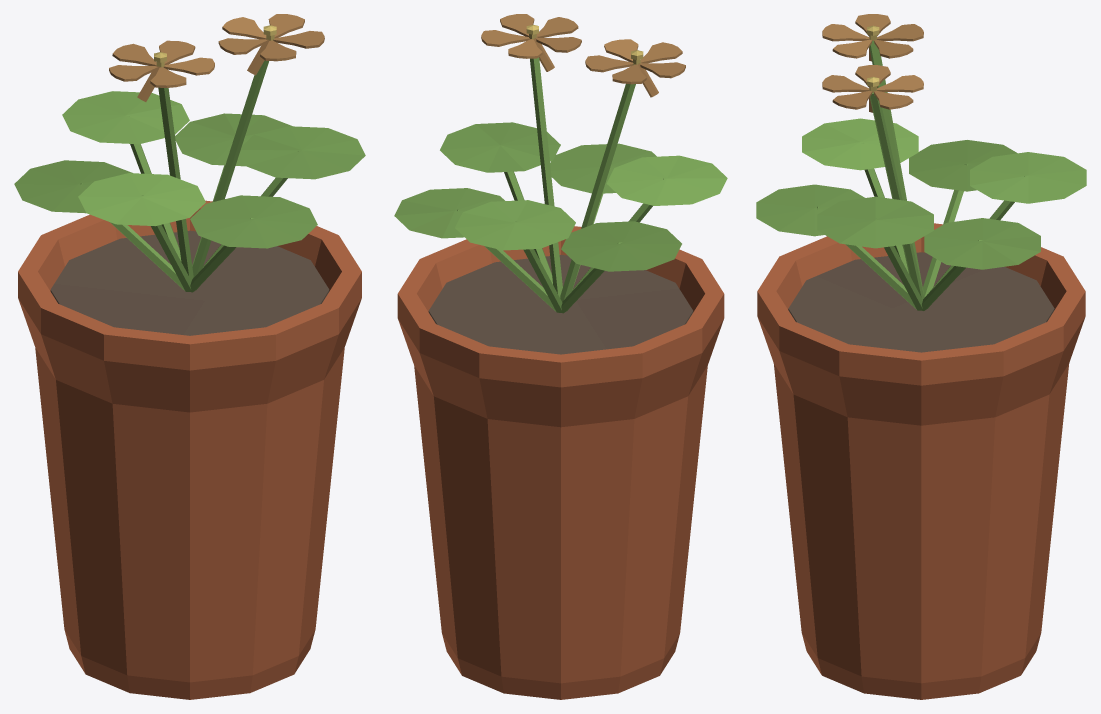
Rendered from nasturtium.glb.
3 renders of one model, left to right at view 1: azimuth 30°, elevation 25°; view 2: azimuth 150°, elevation 25°; view 3: azimuth 270°, elevation 25°, orthographic. The views are drawn at different scales.
Parts seen in each view (by area): view 1: nasturtium/review-terra-vessel, nasturtium/review-rooted-soil, nasturtium/peltate-round-leaf-002, nasturtium/peltate-round-leaf-012, nasturtium/peltate-round-leaf-004, nasturtium/peltate-round-leaf-008, nasturtium/peltate-round-leaf-010, nasturtium/peltate-round-leaf-006, nasturtium/petiole-022, nasturtium/petiole-013, nasturtium/petiole-009, nasturtium/petiole-011 (+10 smaller); view 2: nasturtium/review-terra-vessel, nasturtium/review-rooted-soil, nasturtium/peltate-round-leaf-008, nasturtium/peltate-round-leaf-012, nasturtium/peltate-round-leaf-010, nasturtium/peltate-round-leaf-004, nasturtium/peltate-round-leaf-006, nasturtium/peltate-round-leaf-002, nasturtium/petiole-022, nasturtium/petiole-013, nasturtium/petiole-005, nasturtium/petiole-007 (+10 smaller); view 3: nasturtium/review-terra-vessel, nasturtium/review-rooted-soil, nasturtium/peltate-round-leaf-008, nasturtium/peltate-round-leaf-004, nasturtium/peltate-round-leaf-006, nasturtium/peltate-round-leaf-012, nasturtium/peltate-round-leaf-002, nasturtium/peltate-round-leaf-010, nasturtium/petiole-022, nasturtium/petiole-013, nasturtium/petiole-001, nasturtium/petiole-009 (+6 smaller).
Part boxes in pixels (x1=…): nasturtium/review-terra-vessel: x1=18, y1=200, x2=361, y2=699; nasturtium/review-rooted-soil: x1=50, y1=230, x2=329, y2=335; nasturtium/peltate-round-leaf-002: x1=190, y1=195, x2=317, y2=248; nasturtium/peltate-round-leaf-012: x1=78, y1=173, x2=205, y2=226; nasturtium/peltate-round-leaf-004: x1=239, y1=126, x2=365, y2=179; nasturtium/peltate-round-leaf-008: x1=62, y1=91, x2=189, y2=144; nasturtium/peltate-round-leaf-010: x1=14, y1=160, x2=132, y2=213; nasturtium/peltate-round-leaf-006: x1=175, y1=113, x2=292, y2=166; nasturtium/petiole-022: x1=192, y1=60, x2=268, y2=277; nasturtium/petiole-013: x1=158, y1=87, x2=193, y2=280; nasturtium/petiole-009: x1=80, y1=183, x2=184, y2=290; nasturtium/petiole-011: x1=141, y1=195, x2=191, y2=291; nasturtium/review-terra-vessel: x1=397, y1=226, x2=724, y2=699; nasturtium/review-rooted-soil: x1=428, y1=255, x2=693, y2=354; nasturtium/peltate-round-leaf-008: x1=455, y1=200, x2=575, y2=250; nasturtium/peltate-round-leaf-012: x1=606, y1=155, x2=727, y2=205; nasturtium/peltate-round-leaf-010: x1=561, y1=221, x2=681, y2=271; nasturtium/peltate-round-leaf-004: x1=440, y1=122, x2=560, y2=172; nasturtium/peltate-round-leaf-006: x1=394, y1=188, x2=504, y2=238; nasturtium/peltate-round-leaf-002: x1=550, y1=143, x2=656, y2=193; nasturtium/petiole-022: x1=530, y1=57, x2=562, y2=297; nasturtium/petiole-013: x1=560, y1=64, x2=635, y2=301; nasturtium/petiole-005: x1=457, y1=209, x2=556, y2=311; nasturtium/petiole-007: x1=515, y1=221, x2=562, y2=312; nasturtium/review-terra-vessel: x1=757, y1=223, x2=1085, y2=699; nasturtium/review-rooted-soil: x1=788, y1=252, x2=1054, y2=352; nasturtium/peltate-round-leaf-008: x1=970, y1=152, x2=1086, y2=203; nasturtium/peltate-round-leaf-004: x1=817, y1=196, x2=933, y2=248; nasturtium/peltate-round-leaf-006: x1=924, y1=218, x2=1040, y2=269; nasturtium/peltate-round-leaf-012: x1=802, y1=118, x2=918, y2=170; nasturtium/peltate-round-leaf-002: x1=756, y1=184, x2=864, y2=236; nasturtium/peltate-round-leaf-010: x1=909, y1=140, x2=1017, y2=191; nasturtium/petiole-022: x1=870, y1=92, x2=924, y2=299; nasturtium/petiole-013: x1=869, y1=41, x2=924, y2=296; nasturtium/petiole-001: x1=817, y1=206, x2=916, y2=309; nasturtium/petiole-009: x1=923, y1=164, x2=967, y2=297.
Size of the model in its own units: 0.19 by 0.3827 by 0.1911.
5 materials, 5 textured.
